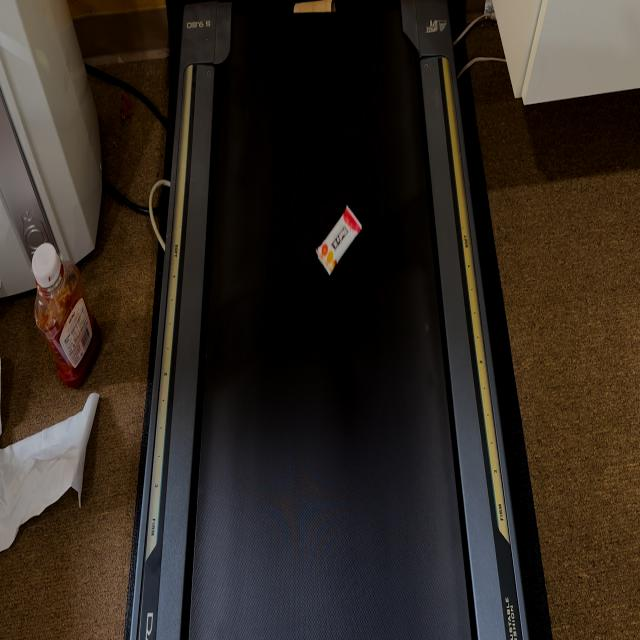Trash: (312, 202, 364, 276)
